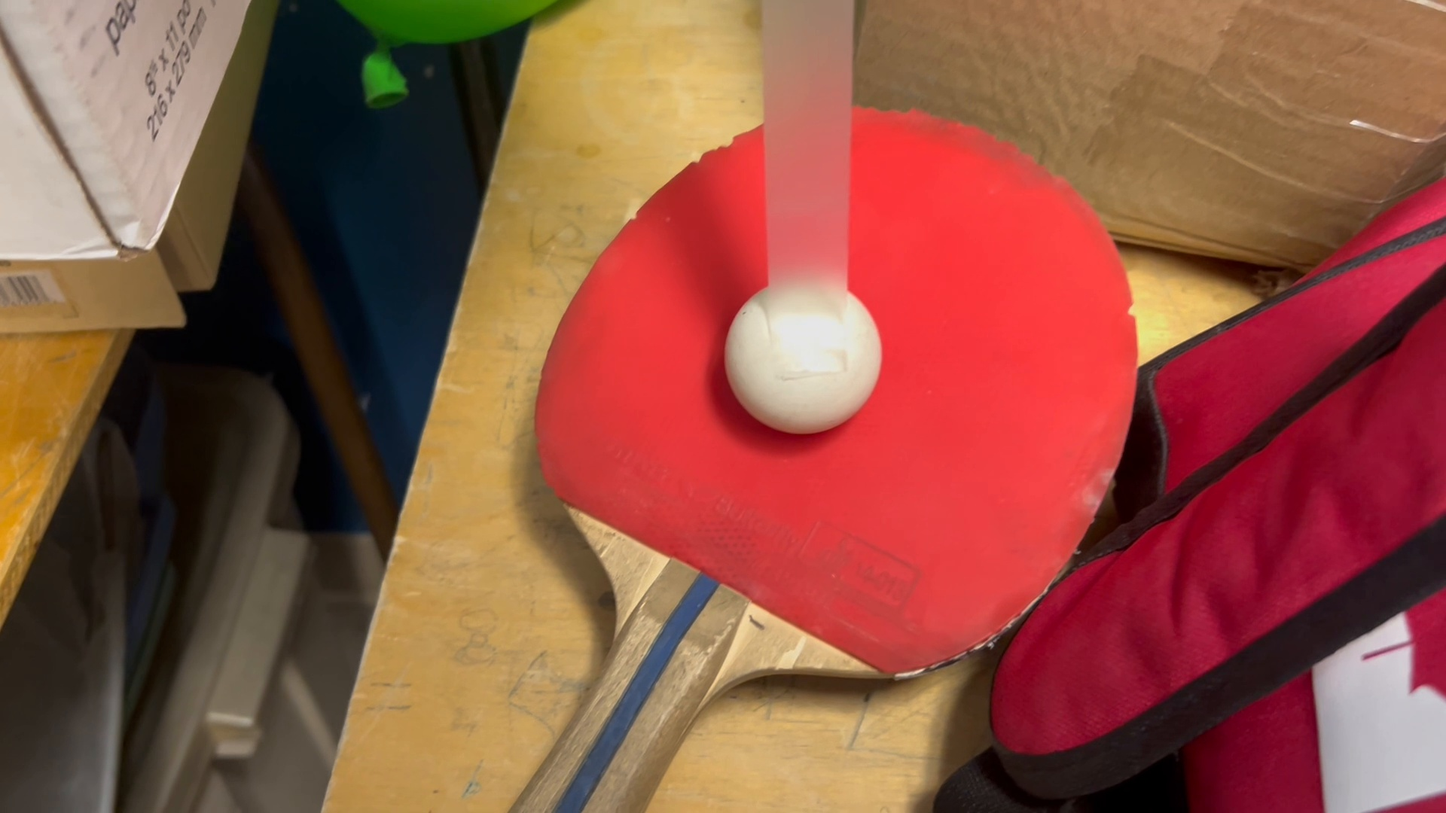Ball: (708, 282, 895, 425)
